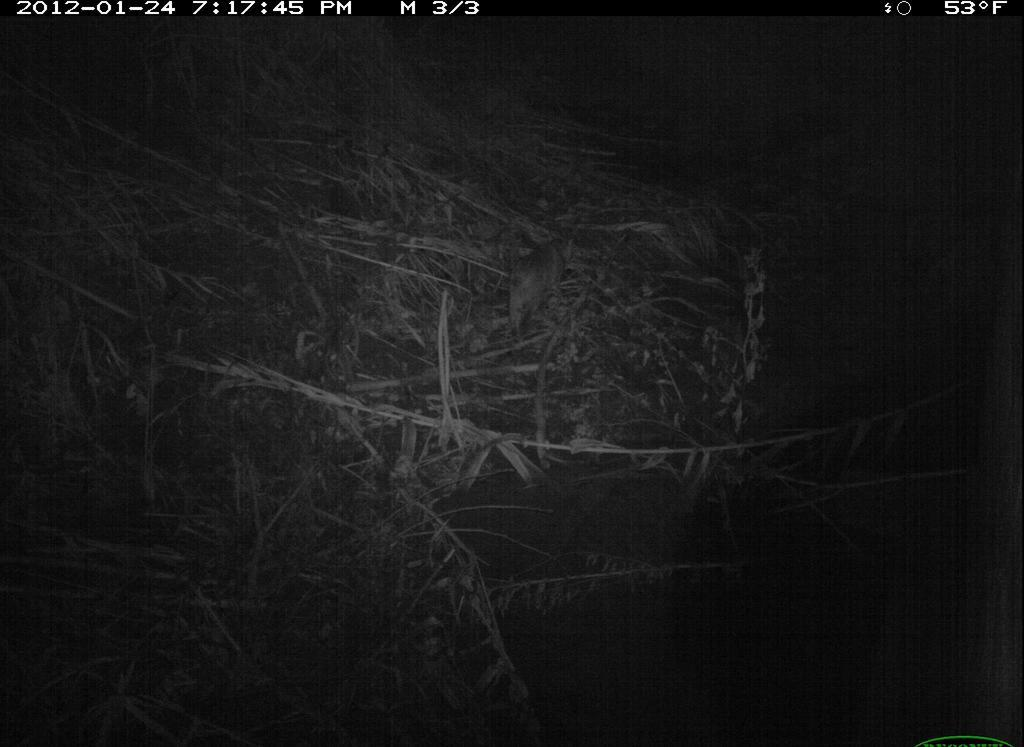bobcat: (480, 214, 593, 342)
